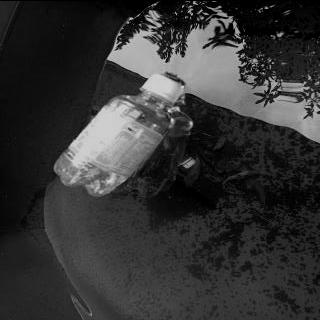bottle: (51, 72, 186, 196)
